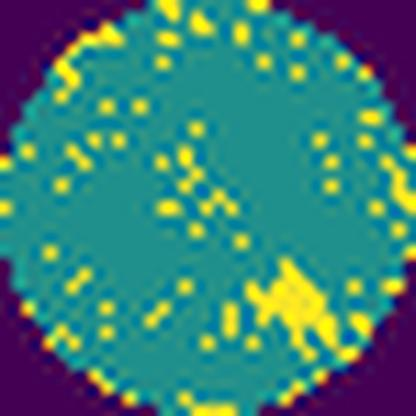Edge-Loc: (239, 251, 345, 360)
